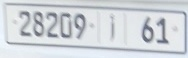0: (59, 11, 74, 41)
1: (156, 15, 170, 45)
2: (17, 8, 32, 39), (45, 10, 59, 39)
6: (140, 13, 156, 44)
8: (32, 9, 44, 38)
9: (73, 12, 86, 42)
a: (106, 12, 119, 43)
